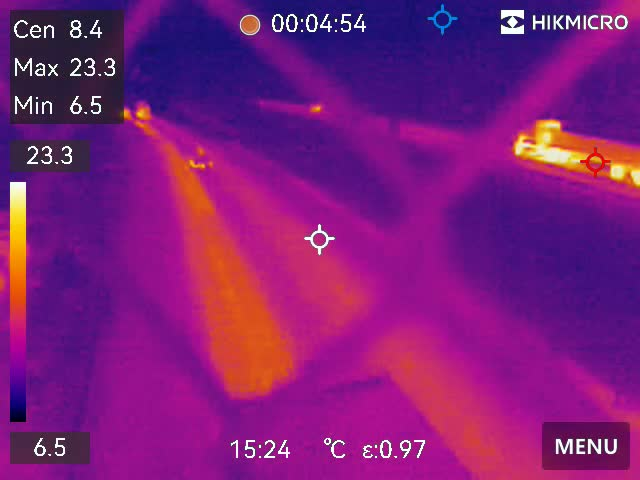heavyTruck: (510, 119, 640, 186)
